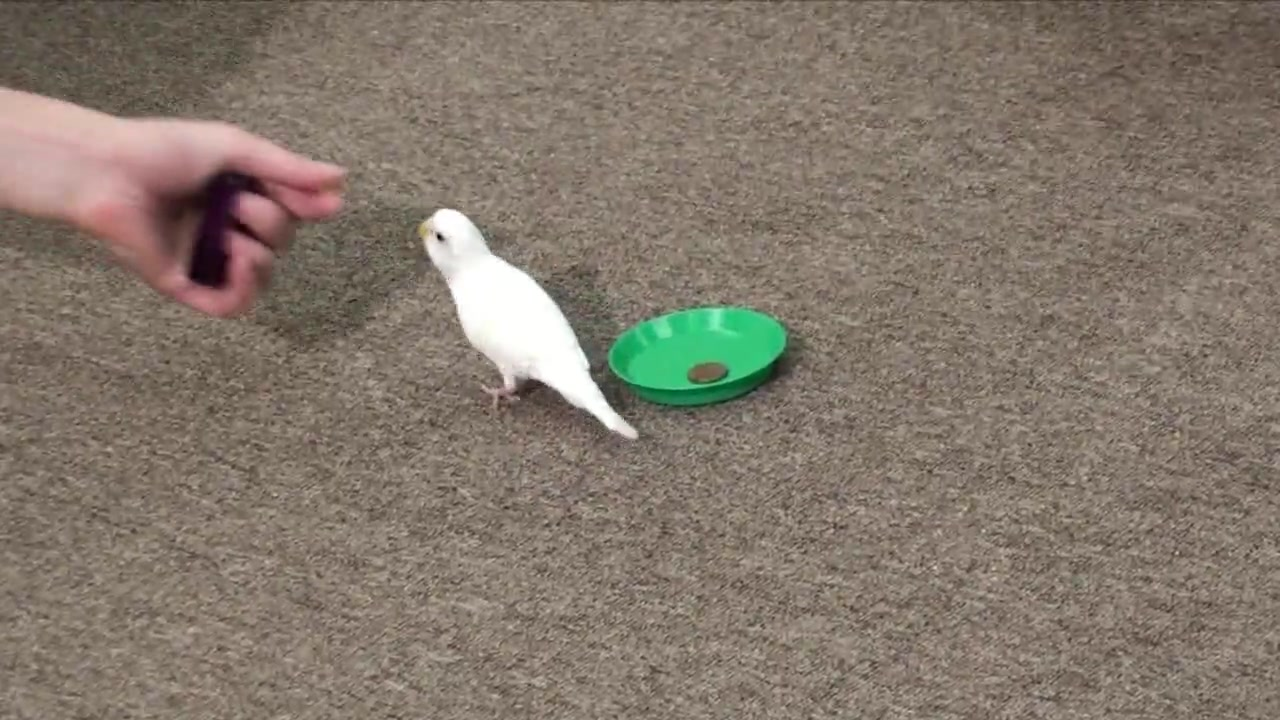bird: (418, 209, 643, 442)
